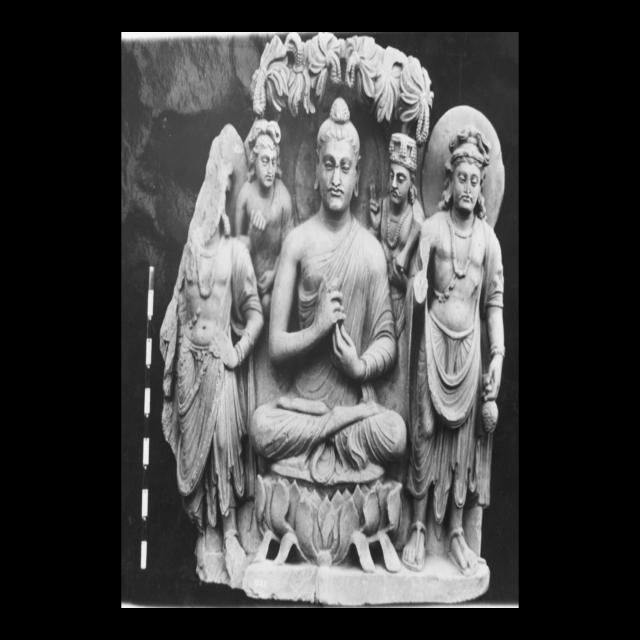buddha-sitting: (251, 100, 406, 571)
